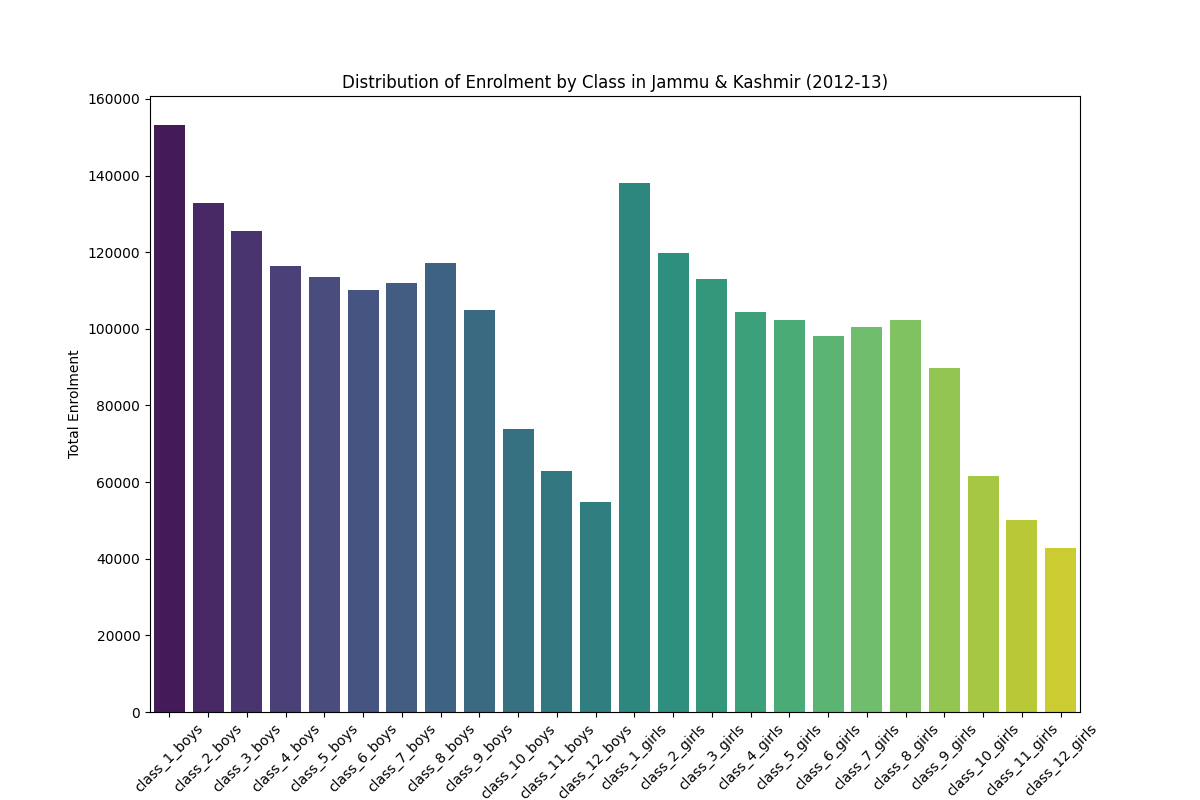

The page's visual inventory and layout, read from the dashboard file:
{"tool":"tableau","page":{"name":"Dashboard 1","canvas":[1000,1000],"units":"permille","ordinal":0},"visuals":[{"type":"worksheet","title":"Sheet 2","mark":"Bar","rows":["count"],"cols":["date","date"],"box":[1.8,480.7,991,499.4]}]}

Visuals, with their boxes on the dashboard's canvas, which has no fixed pixel size, in thousandths of its width and height (x1, y1, x2, y2). These are canvas units, not pixel positions in the 1200x800 screenshot, which may show the page scaled, cropped or inside an application window:
"Sheet 2" worksheet (Bar marks): crop(2, 481, 993, 980)
